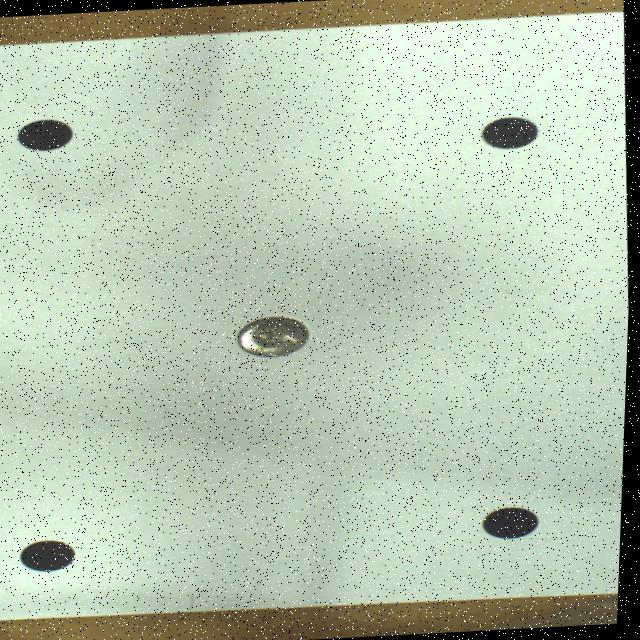space: (483, 116, 540, 148), (487, 506, 542, 538), (18, 119, 74, 150), (26, 539, 79, 570)
tail1bath: (239, 315, 310, 356)
